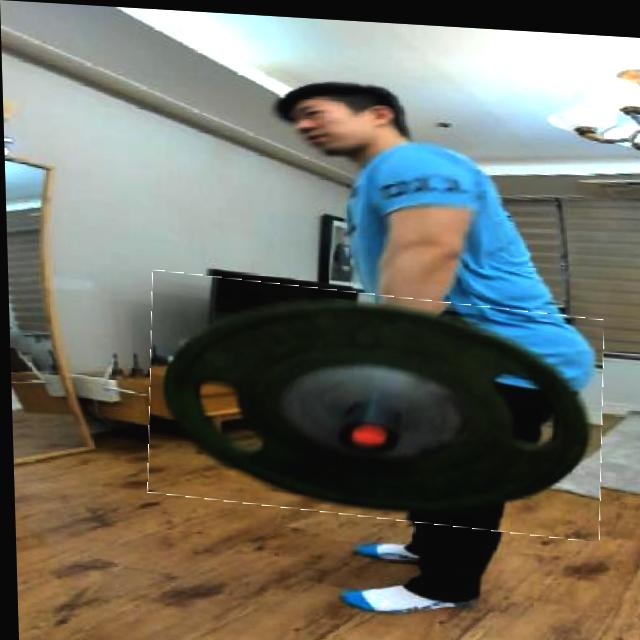barbell: (143, 275, 605, 530)
